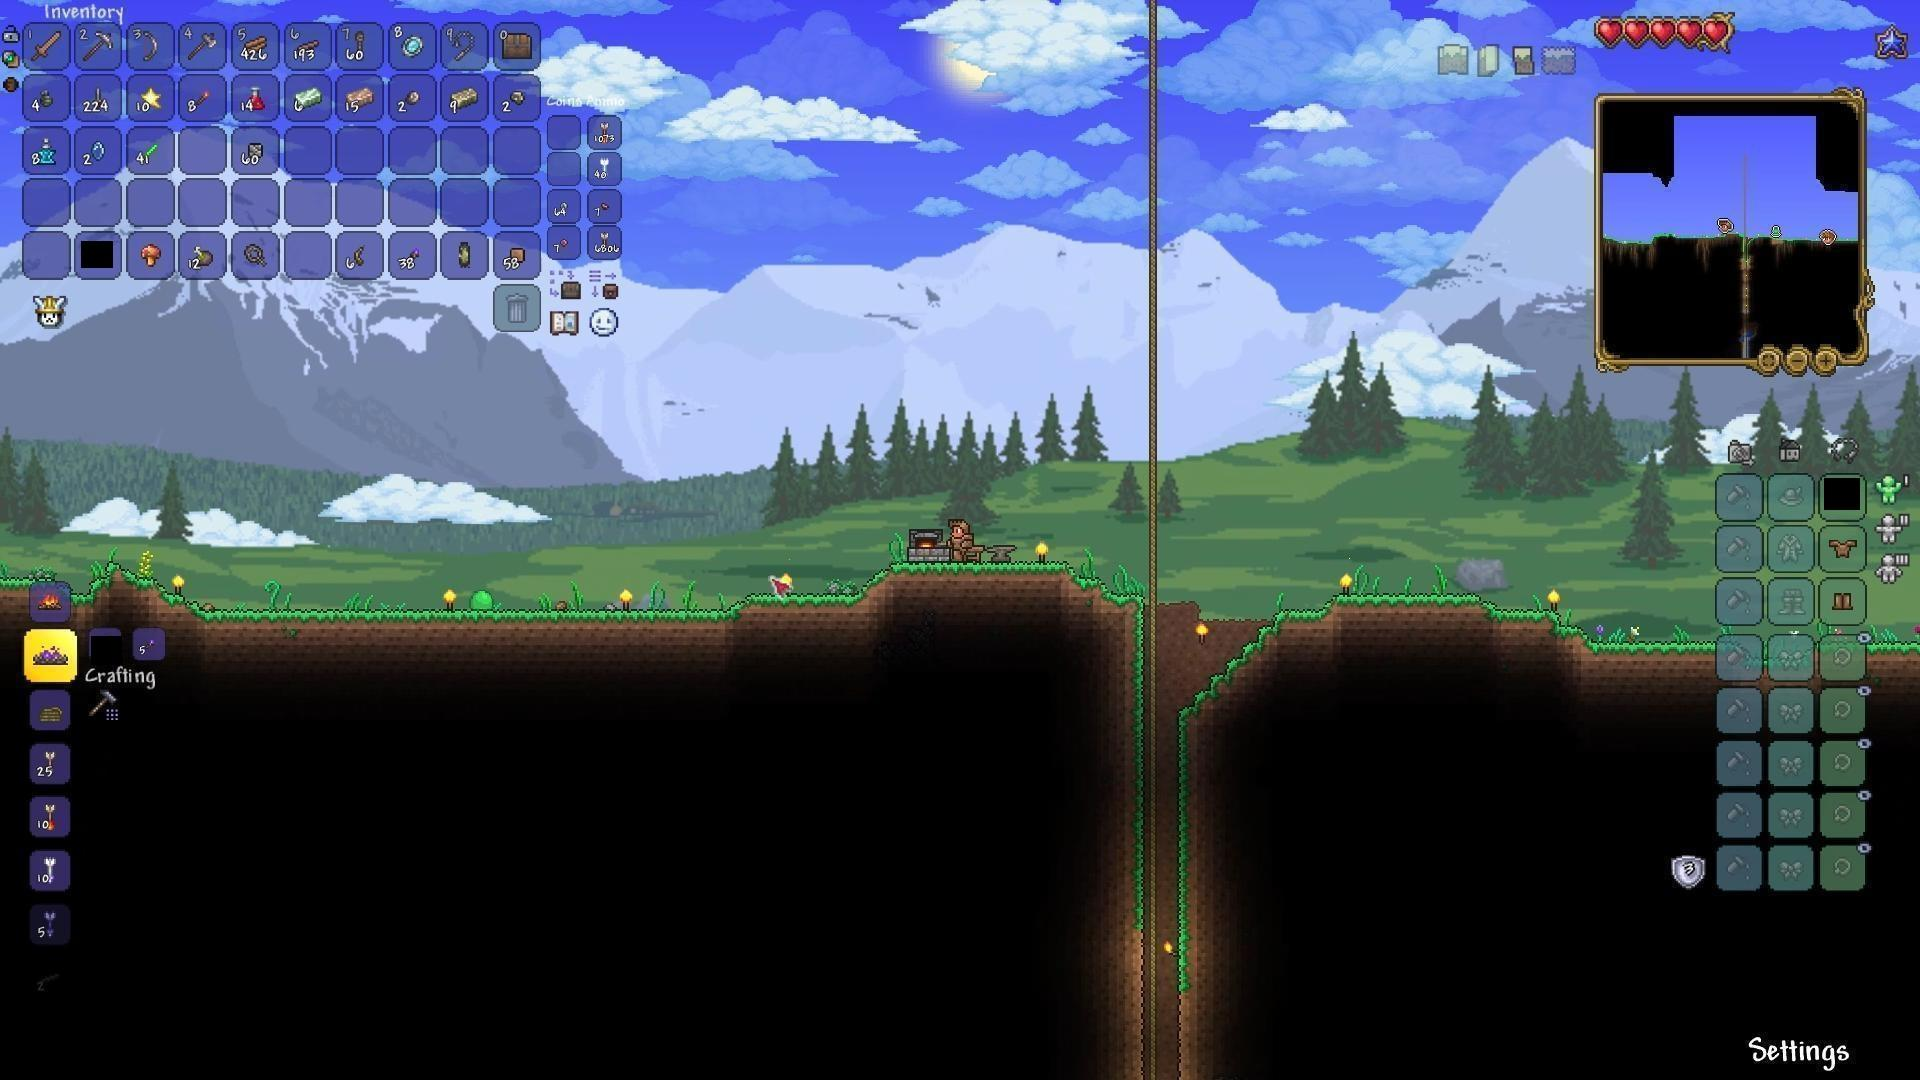breastplate: (1826, 535, 1858, 560)
legs: (1830, 585, 1855, 615)
slime: (468, 585, 498, 615)
wood: (237, 33, 266, 61)
